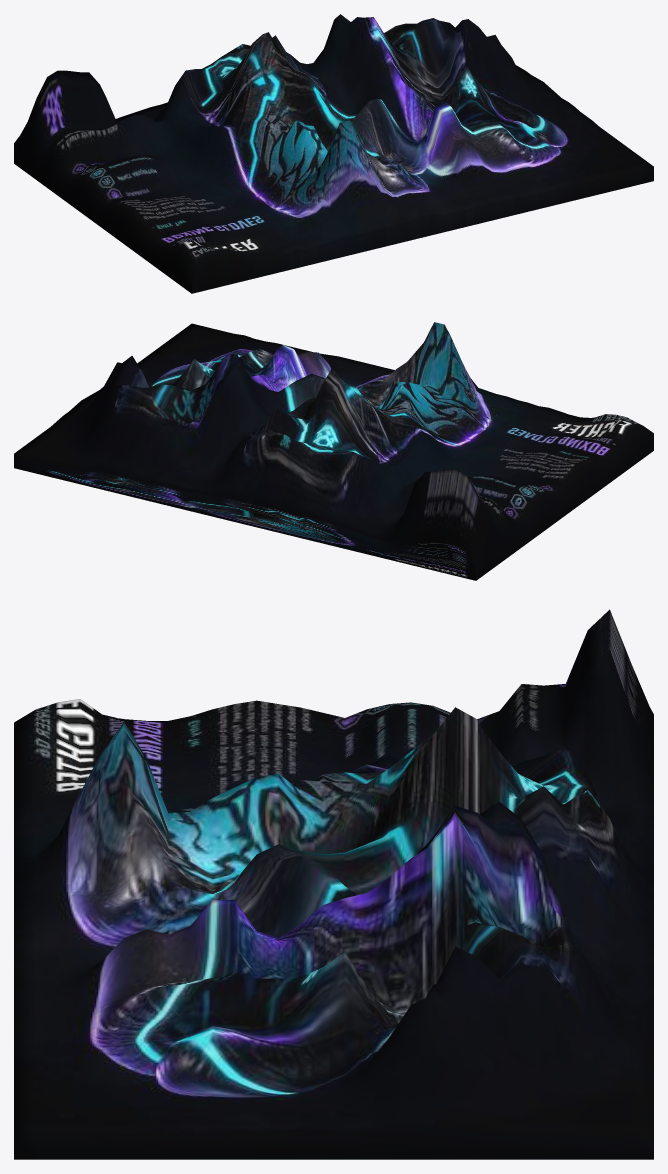
The model's file is CAREER_06_Tool_01_Gloves.glb.
3 views of the same model, one above another, from view 1: azimuth 30°, elevation 25°; view 2: azimuth 150°, elevation 25°; view 3: azimuth 270°, elevation 25° (orthographic). The views are drawn at different scales.
Visible parts, largest first — view 1: CAREER_06_Tool_01_Gloves; view 2: CAREER_06_Tool_01_Gloves; view 3: CAREER_06_Tool_01_Gloves.
Part boxes in pixels (<box>): CAREER_06_Tool_01_Gloves: <box>14,14,653,293</box>; CAREER_06_Tool_01_Gloves: <box>14,322,653,580</box>; CAREER_06_Tool_01_Gloves: <box>14,609,653,1159</box>.
Bounding box in the file's own units: 2 × 0.51 × 1.33.
1 material, 1 textured.
